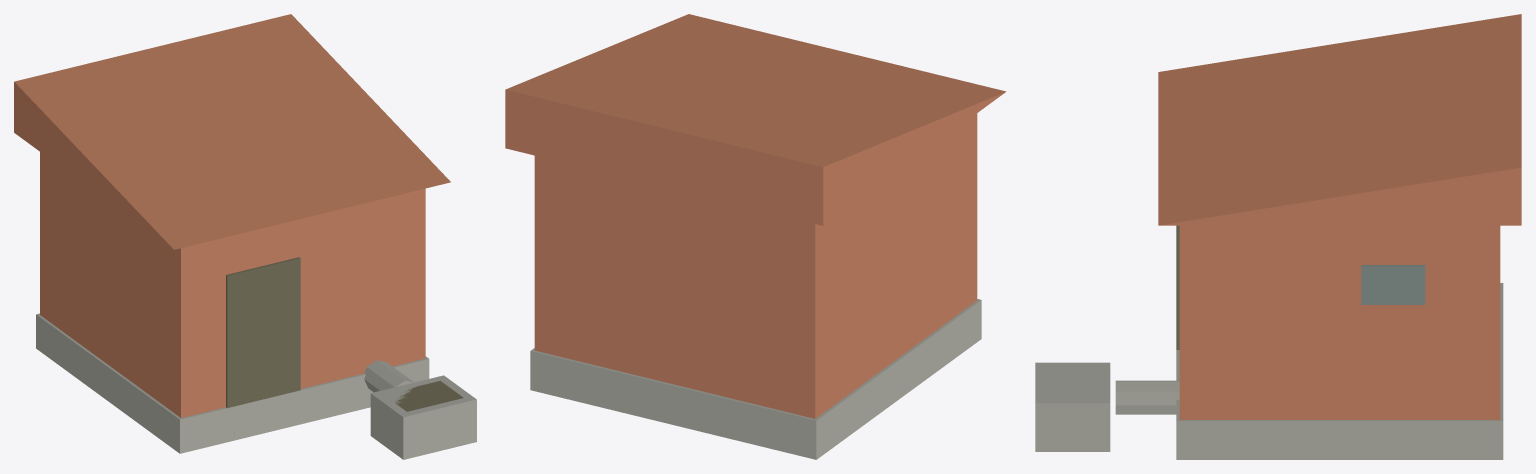
Rendered from SM_CasetaPozo_v1_Ladrillo_LOD1.fbx.
3 renders of one model, left to right at view 1: azimuth 30°, elevation 25°; view 2: azimuth 150°, elevation 25°; view 3: azimuth 270°, elevation 25°, orthographic. The views are drawn at different scales.
Parts seen in each view (by area): view 1: SM_huerta_nules_v1_LOD1; view 2: SM_huerta_nules_v1_LOD1; view 3: SM_huerta_nules_v1_LOD1.
Boxes of the visible parts, x1,y1,x2,y2 form: SM_huerta_nules_v1_LOD1: [14, 14, 476, 459]; SM_huerta_nules_v1_LOD1: [505, 14, 1006, 459]; SM_huerta_nules_v1_LOD1: [1035, 14, 1521, 459].
Bounding box in the file's own units: 3.4 × 3.1 × 4.55.
